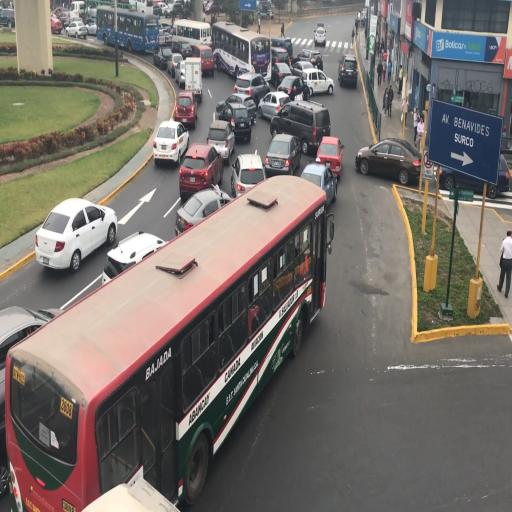auto: (0, 306, 61, 480), (34, 196, 116, 270), (429, 150, 509, 198), (102, 230, 168, 284), (359, 137, 423, 186), (174, 187, 230, 234), (179, 142, 223, 200), (264, 132, 302, 178), (300, 161, 338, 207), (152, 118, 189, 165), (231, 151, 266, 198), (216, 96, 253, 137), (206, 119, 236, 160), (315, 136, 343, 178), (258, 90, 294, 122), (298, 69, 334, 97), (276, 74, 308, 103), (173, 92, 198, 128), (266, 61, 294, 90), (294, 49, 322, 71), (338, 55, 357, 87), (168, 52, 185, 78), (64, 20, 88, 38), (0, 5, 16, 27), (168, 1, 186, 18), (70, 0, 87, 17), (50, 14, 63, 35), (152, 1, 168, 17), (314, 27, 326, 46)
bus: (181, 58, 203, 102), (268, 36, 294, 67)
moto: (9, 186, 321, 500), (212, 21, 263, 79), (99, 5, 157, 54), (170, 18, 212, 63)
